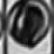correct: (7, 0, 51, 48)
